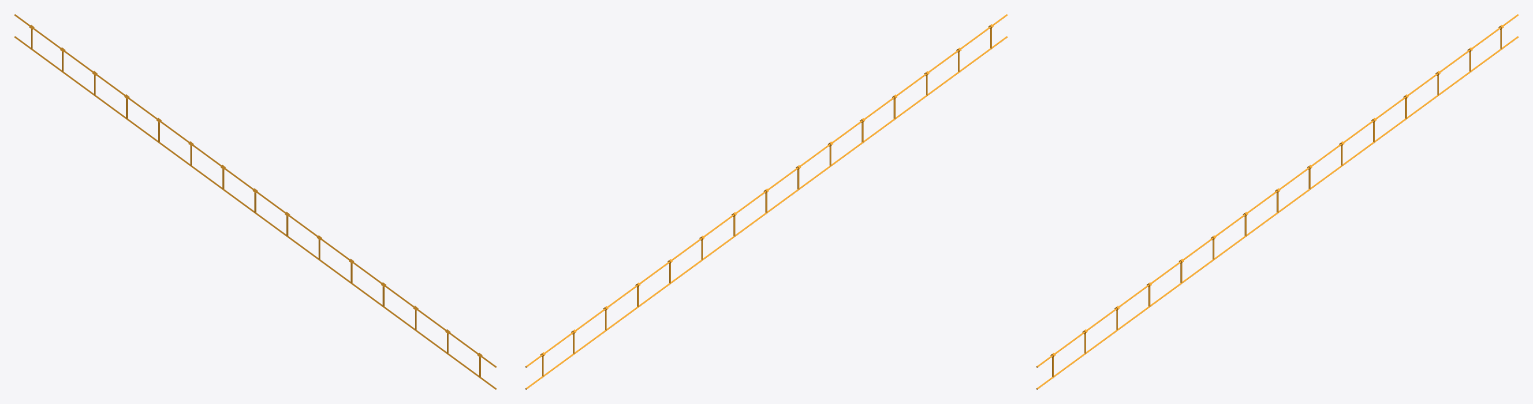
File: SM_Train_Wire.fbx
3 views of the same model, side by side, from view 1: azimuth 30°, elevation 25°; view 2: azimuth 150°, elevation 25°; view 3: azimuth 330°, elevation 25° (orthographic).
Parts seen in each view (by area): view 1: SM_Train_Wire; view 2: SM_Train_Wire; view 3: SM_Train_Wire.
Boxes of the visible parts, bbox=[...] form: SM_Train_Wire: bbox=[14, 14, 496, 389]; SM_Train_Wire: bbox=[525, 14, 1007, 389]; SM_Train_Wire: bbox=[1036, 14, 1518, 389].
Size of the model in its own units: 0.1444 by 0.8614 by 30.
